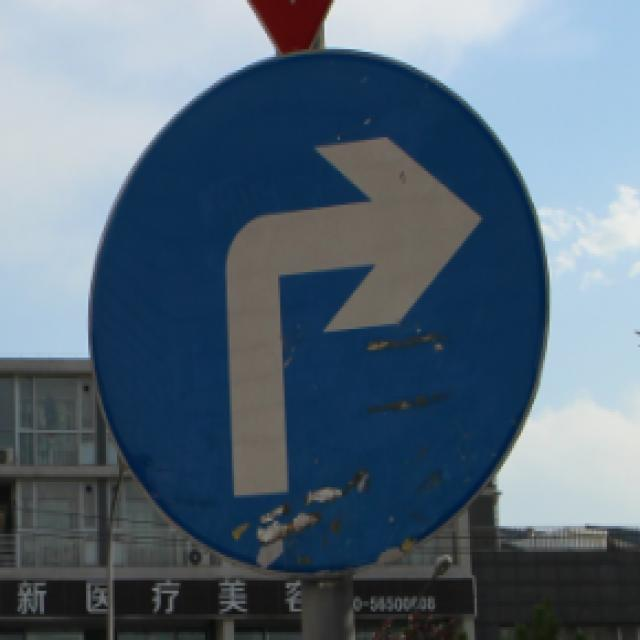Right: (94, 46, 556, 580)
